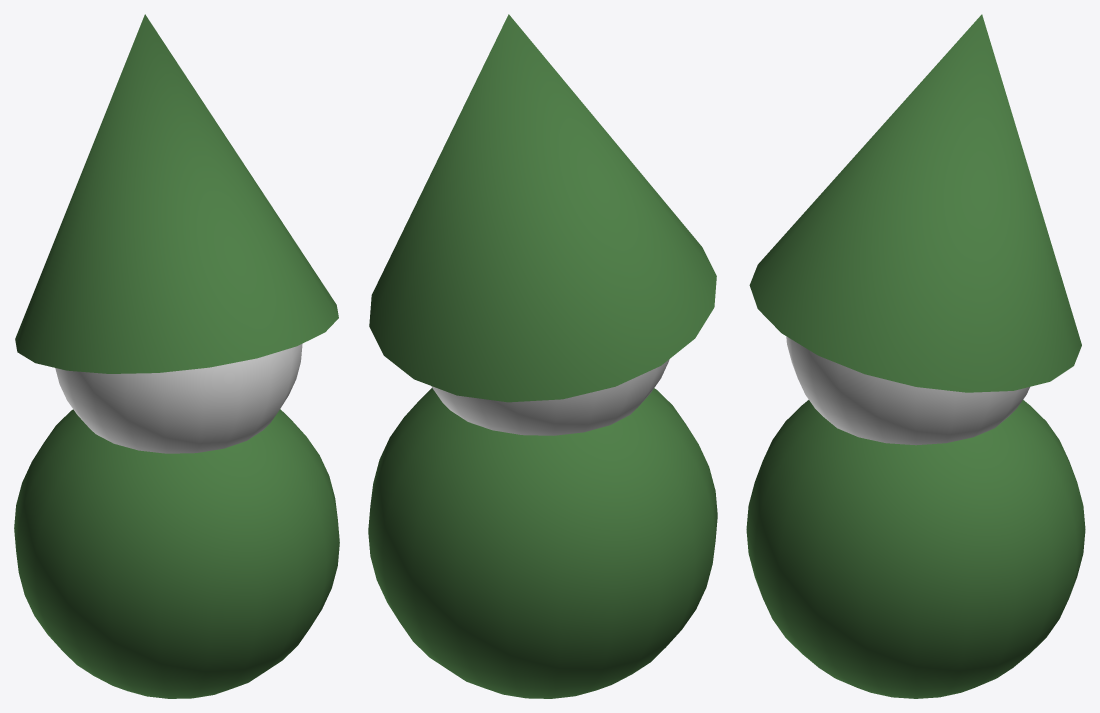
The model's file is Enemy_Model.fbx.
The picture shows the model from 3 angles, left to right: view 1: azimuth 30°, elevation 25°; view 2: azimuth 150°, elevation 25°; view 3: azimuth 270°, elevation 25°; orthographic projection. The views are drawn at different scales.
Parts seen in each view (by area): view 1: pSphere1, pCone1, pSphere2; view 2: pSphere1, pCone1, pSphere2; view 3: pSphere1, pCone1, pSphere2.
Boxes of the visible parts, left/top/right/bottom form: pSphere1: left=14, top=409, right=339, bottom=698; pCone1: left=15, top=14, right=338, bottom=373; pSphere2: left=55, top=343, right=302, bottom=453; pSphere1: left=368, top=388, right=717, bottom=698; pCone1: left=369, top=14, right=716, bottom=402; pSphere2: left=431, top=359, right=669, bottom=435; pSphere1: left=746, top=400, right=1085, bottom=698; pCone1: left=749, top=14, right=1081, bottom=392; pSphere2: left=786, top=336, right=1029, bottom=445.
Size of the model in its own units: 2 by 4.36 by 2.
